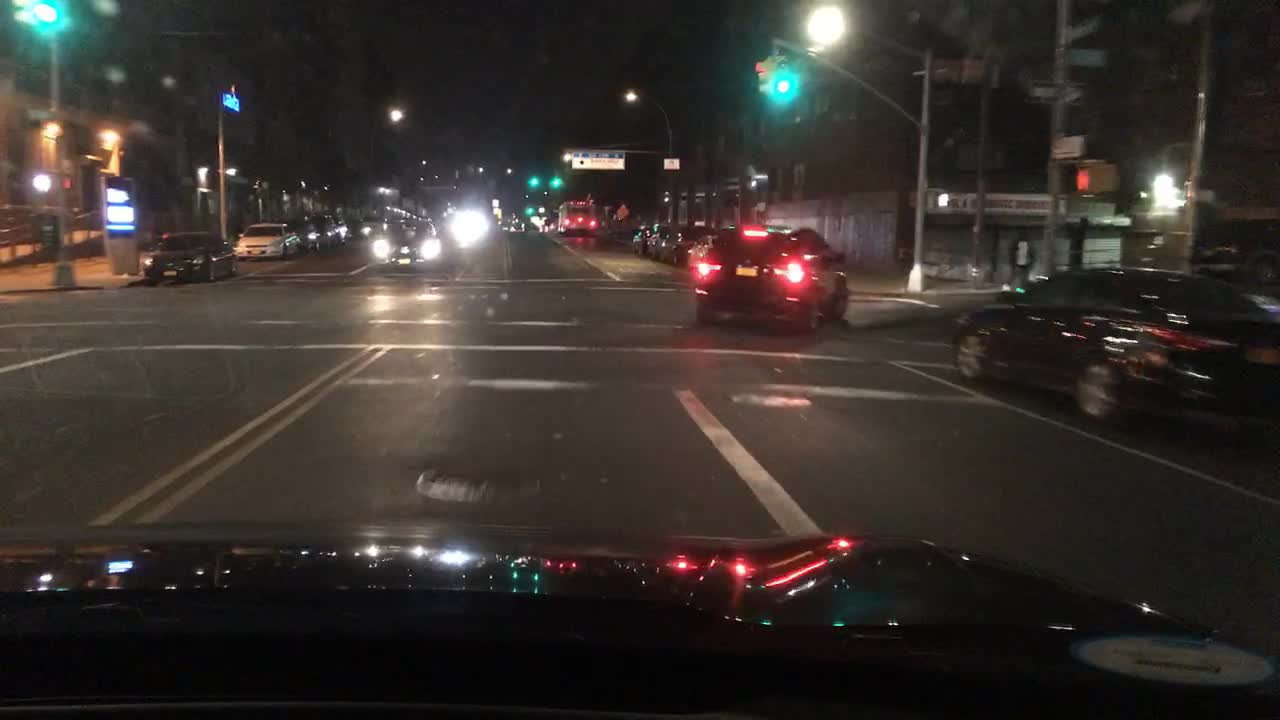bus: (556, 199, 598, 236)
car: (950, 264, 1279, 430), (688, 222, 848, 341), (1192, 223, 1278, 290), (140, 229, 240, 286), (366, 215, 441, 270), (231, 220, 304, 262), (659, 223, 717, 265), (444, 206, 497, 249), (280, 211, 322, 256), (645, 223, 677, 260), (315, 213, 341, 251), (343, 216, 371, 241), (633, 223, 652, 253), (509, 216, 526, 234)
traffic light: (1074, 159, 1119, 194), (30, 0, 54, 29), (771, 68, 790, 97), (754, 59, 769, 92), (928, 188, 951, 209), (28, 171, 51, 192), (12, 0, 28, 23), (60, 172, 75, 191), (526, 176, 540, 188), (551, 174, 563, 188), (525, 204, 535, 218)
traffic sign: (1030, 80, 1091, 103), (570, 152, 624, 169), (1049, 134, 1088, 157), (1065, 17, 1100, 40), (1070, 48, 1107, 66), (28, 108, 61, 118), (616, 204, 630, 218), (665, 157, 679, 169)
